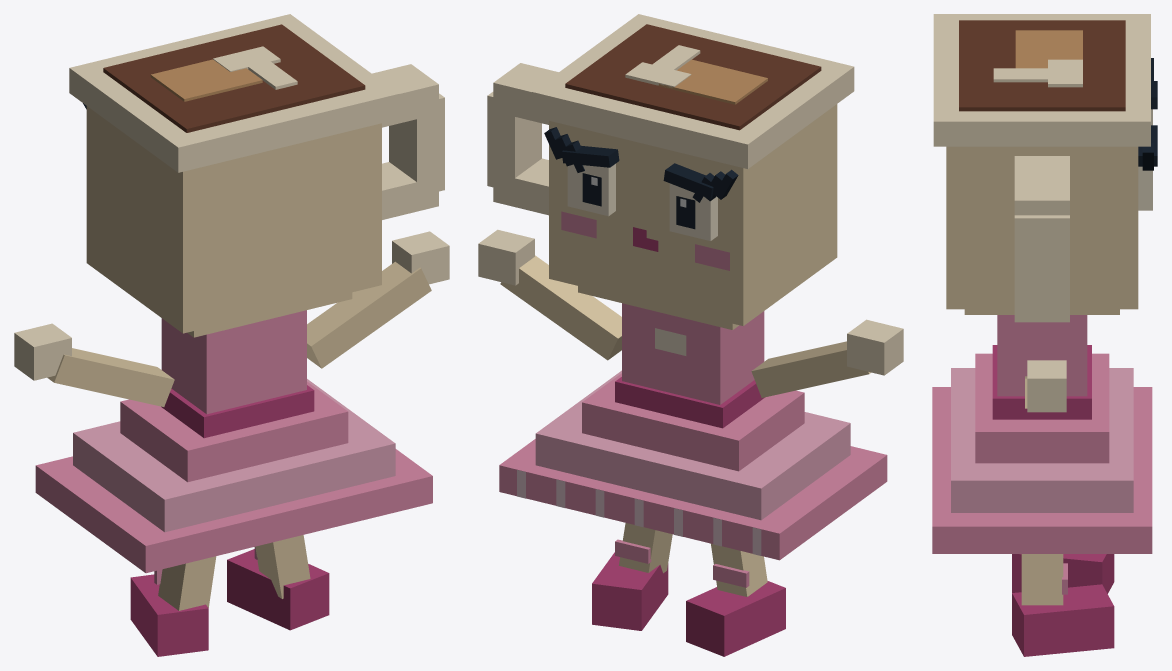
Rendered from BallerinaCappuccina.glb.
3 renders of one model, left to right at view 1: azimuth 30°, elevation 25°; view 2: azimuth 150°, elevation 25°; view 3: azimuth 270°, elevation 25°, orthographic. The views are drawn at different scales.
Visible parts, largest first — view 1: BallerinaCappuccina; view 2: BallerinaCappuccina; view 3: BallerinaCappuccina.
Part boxes in pixels (<box>): BallerinaCappuccina: <box>14,14,449,656</box>; BallerinaCappuccina: <box>478,14,903,656</box>; BallerinaCappuccina: <box>932,14,1157,656</box>.
Bounding box in the file's own units: 1.96 × 2.5 × 0.9191.
